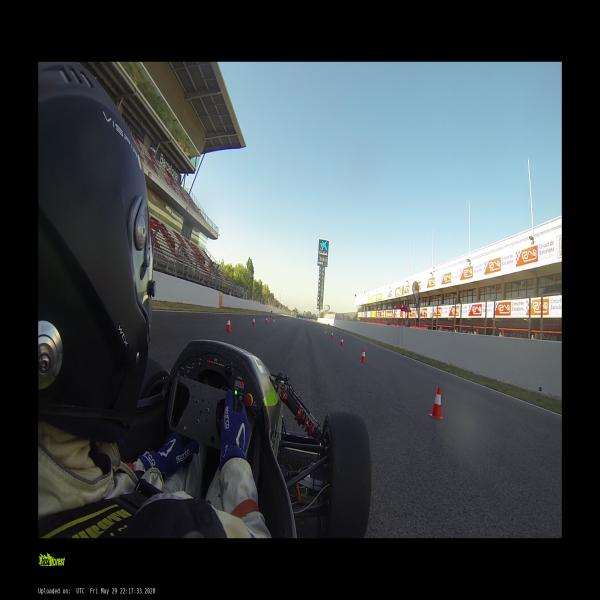orange_cone: (429, 387, 443, 419), (360, 348, 366, 363), (226, 317, 232, 331), (251, 317, 256, 326), (340, 336, 344, 347), (265, 316, 268, 324), (331, 332, 333, 338)
yellow_cone: (272, 316, 275, 322), (324, 328, 327, 333)
